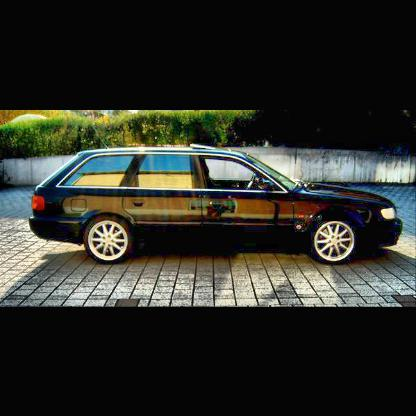Audi 100 Wagon 1994: (28, 140, 406, 267)
